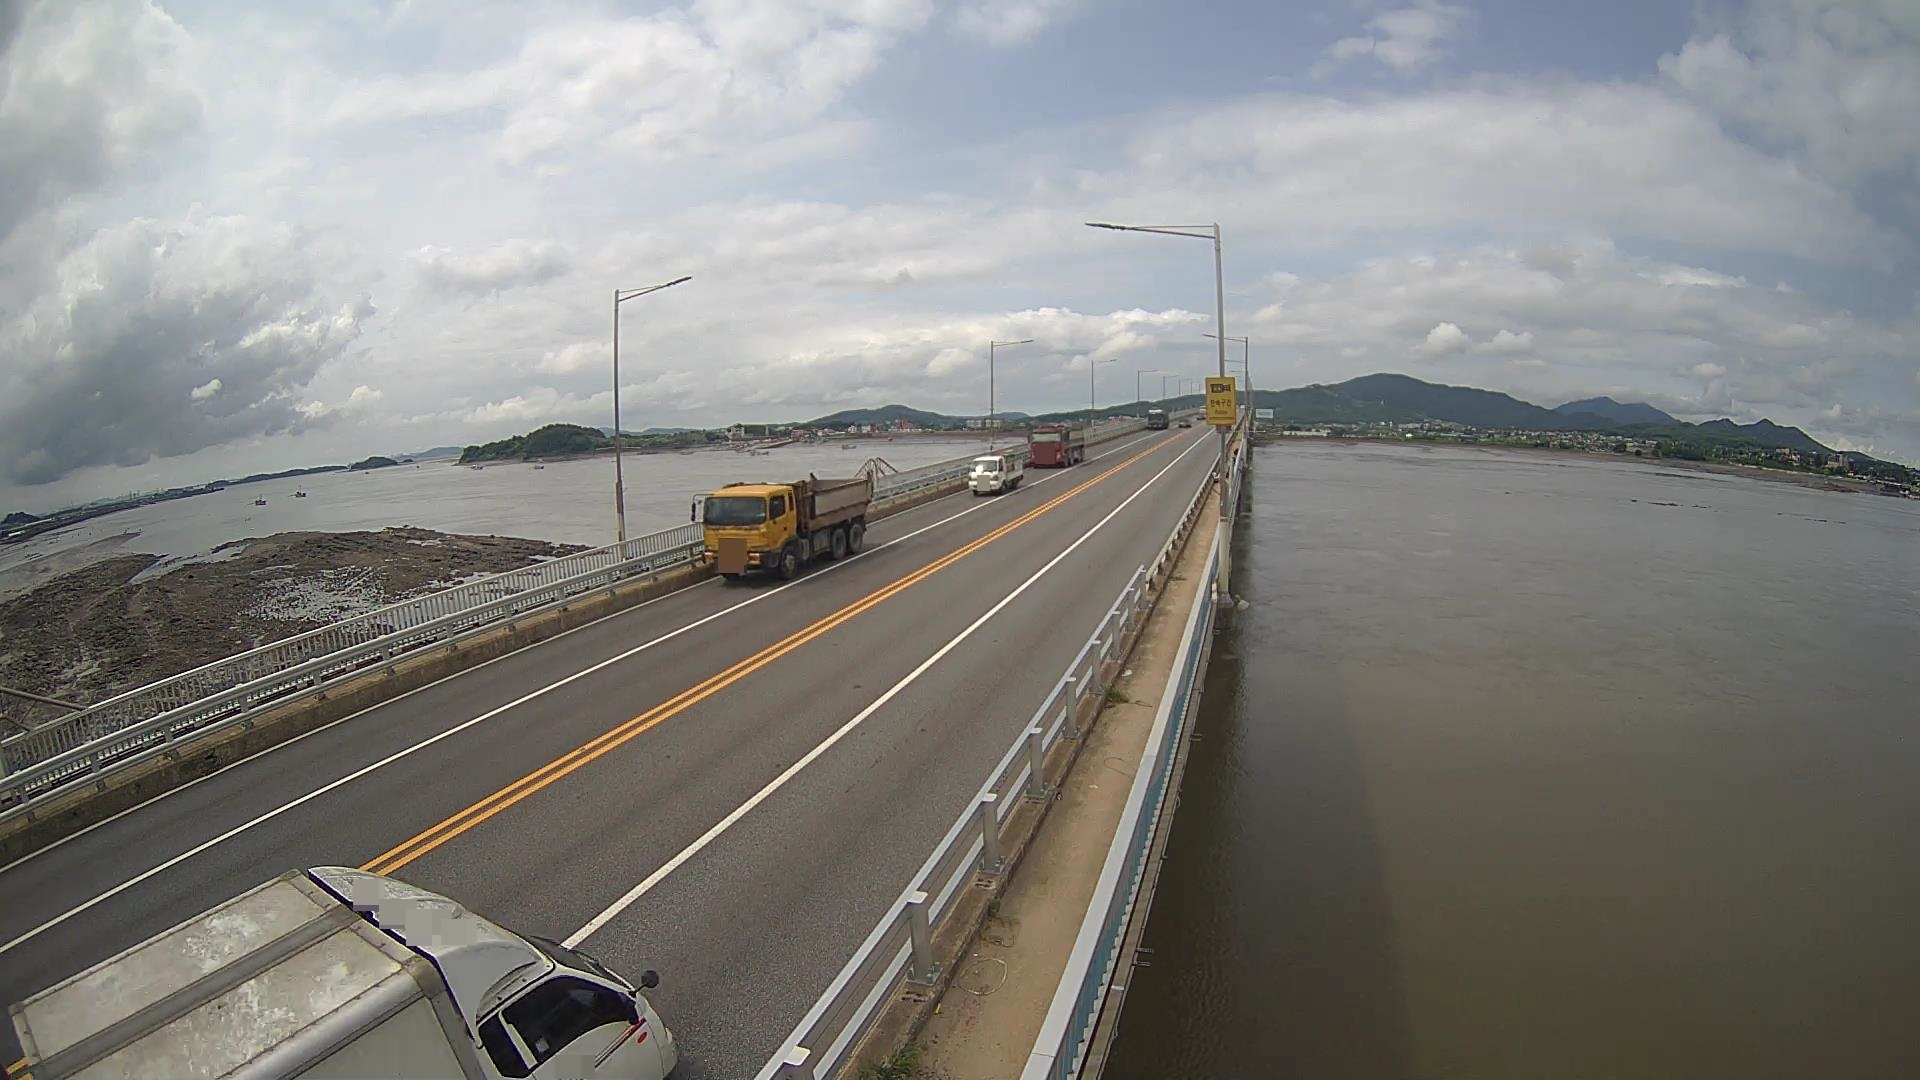정상차량: (690, 468, 874, 582)
